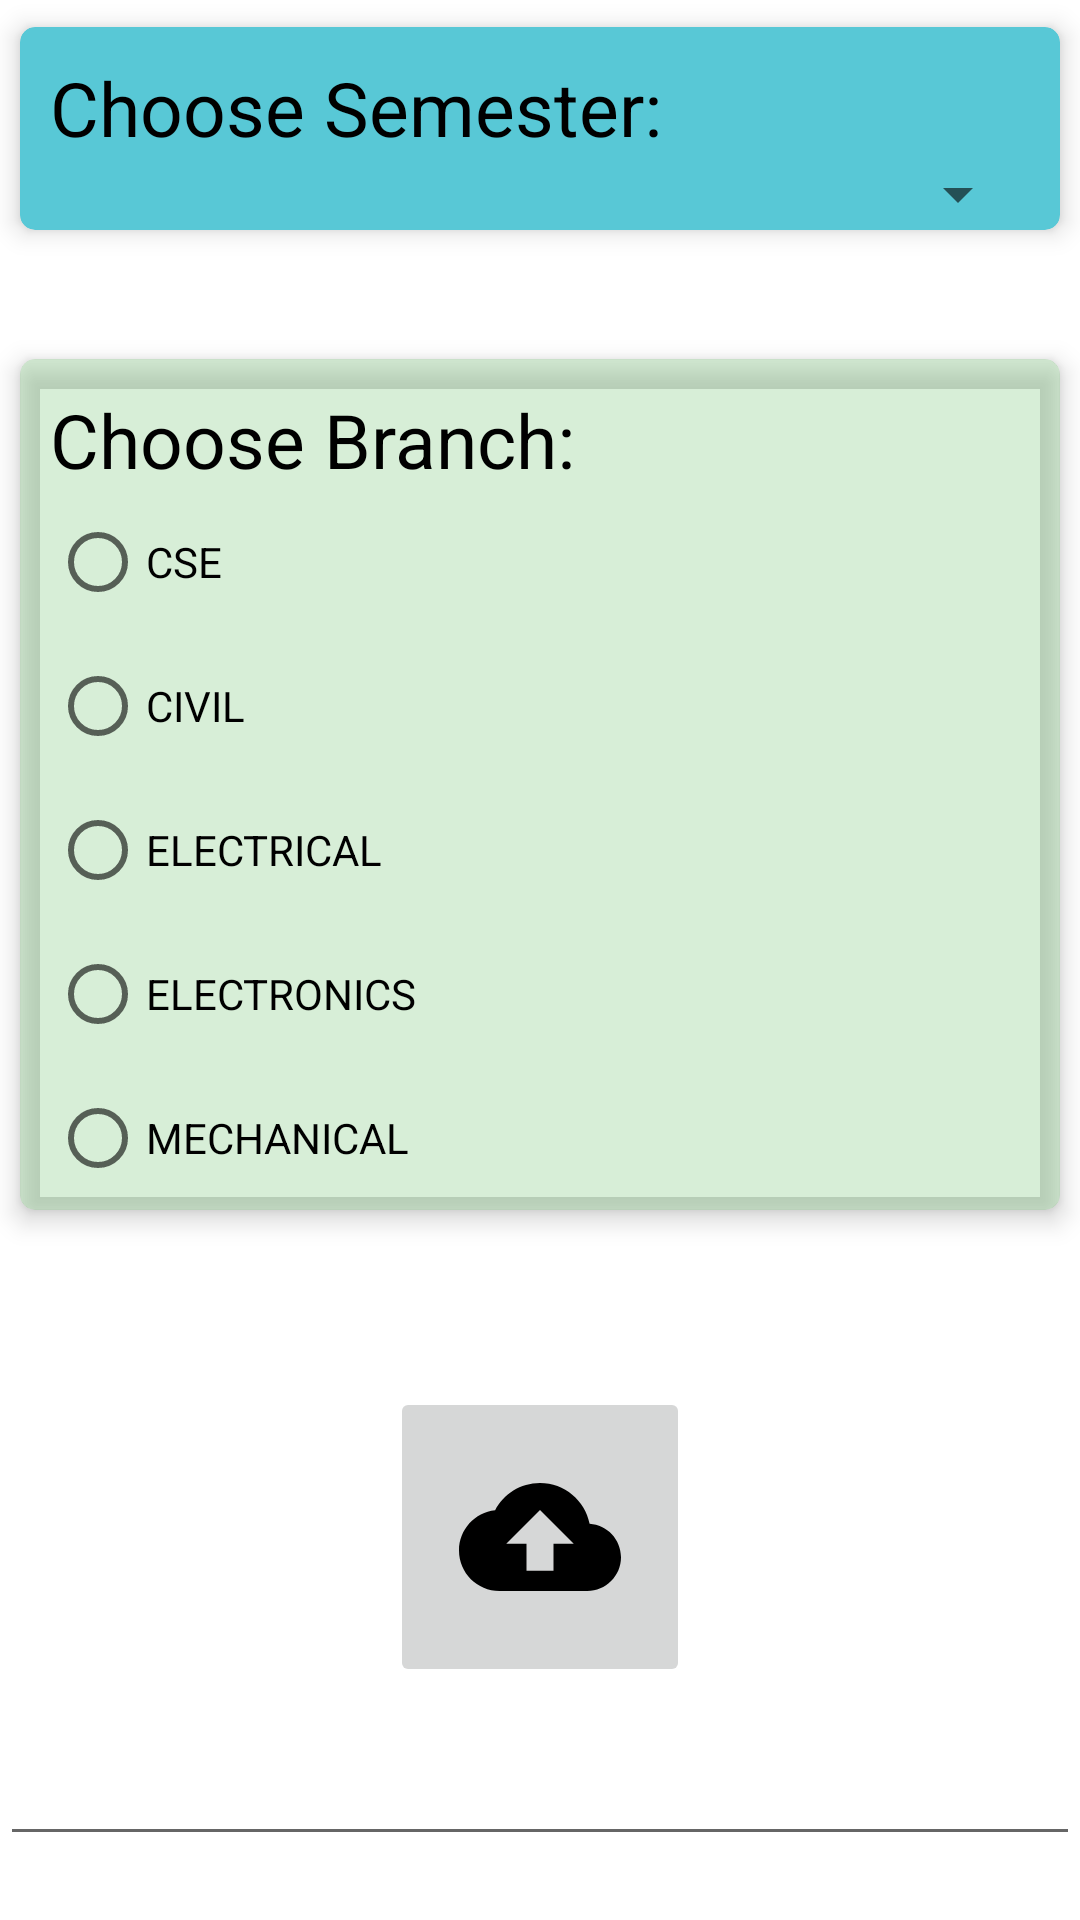

Named icons in this screenshot (1080 × 1920) and their bounding boxes, box(x1, y1, x2, y2):
cloud upload: box(402, 1405, 678, 1669)
